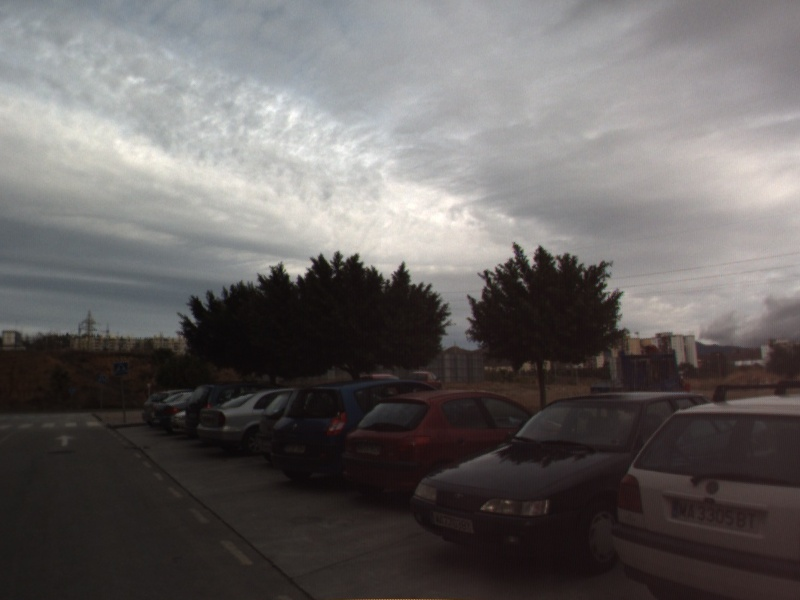STRAIGHT: (53, 432, 79, 449)
